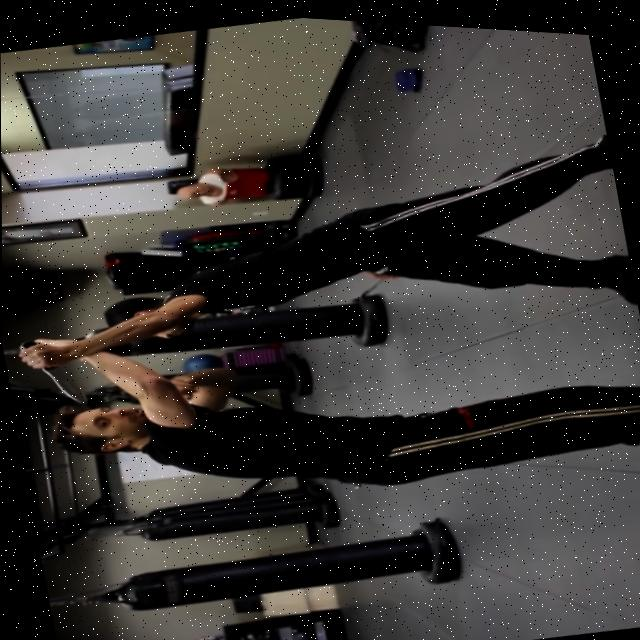knife: (39, 358, 93, 410)
